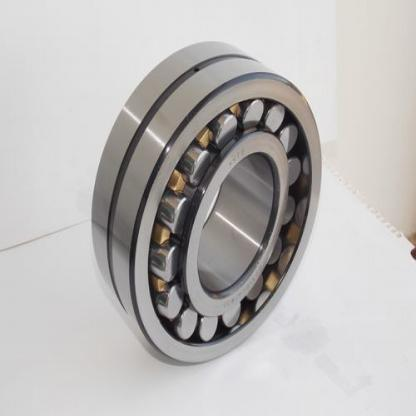FOD: (87, 35, 331, 365)
